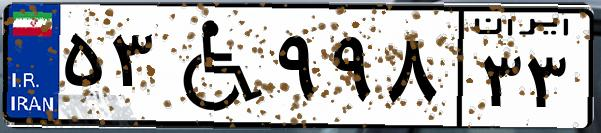3: (475, 38, 525, 113), (525, 38, 570, 115), (110, 28, 158, 98)
5: (57, 26, 110, 100)
8: (385, 28, 445, 110)
9: (270, 28, 330, 110), (330, 28, 385, 110)
ژ (معلولین و جانبازان): (158, 12, 270, 120)
